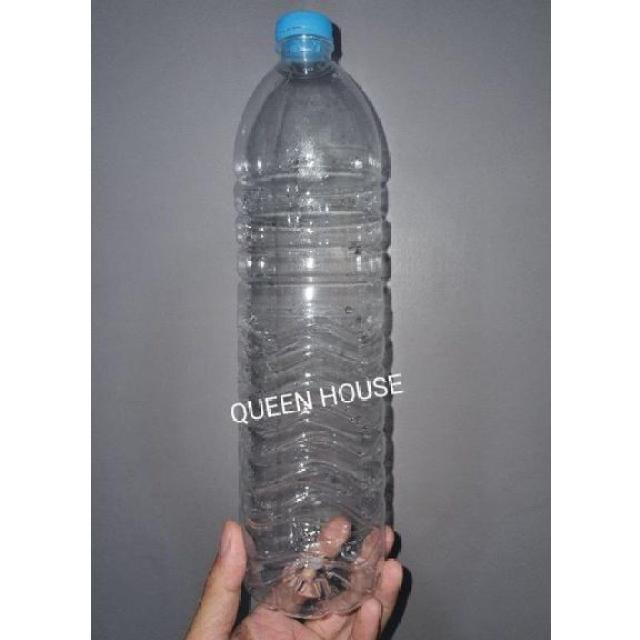litter: (218, 18, 436, 621), (235, 5, 358, 80)
